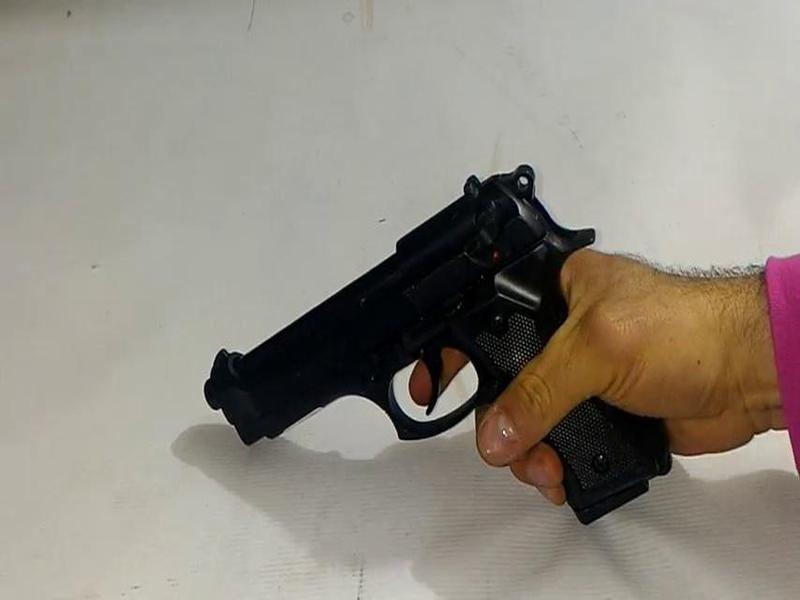Pistola: (163, 169, 704, 548)
